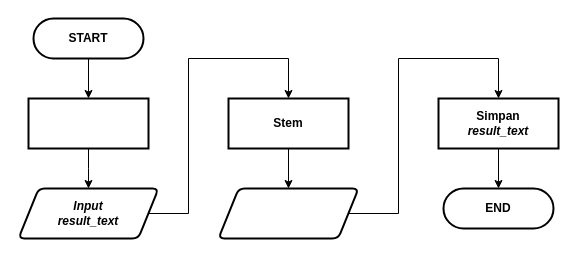
Image size: 576x256. Some labels were removed from this diagram. Here are the shapes that lost their labels. From the top down, the centre of each, then its label:
At point (88, 123): "Load pustaka Sastrawi".
At point (288, 213): "Output result_text".
